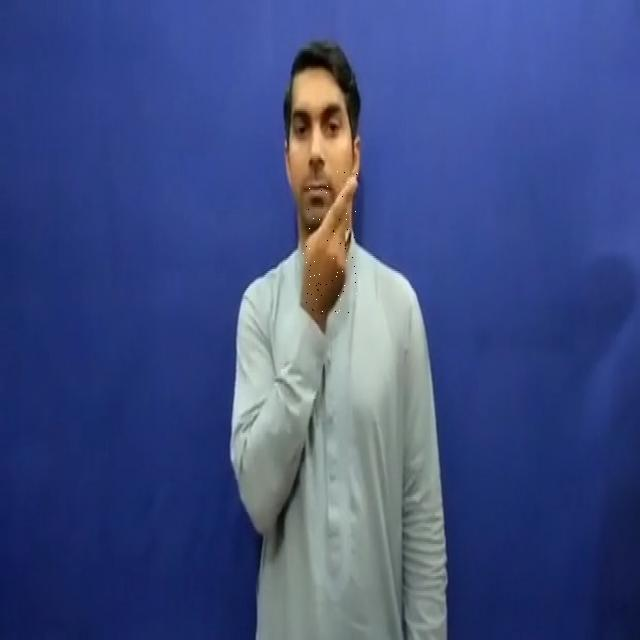napkin: (303, 170, 358, 318)
